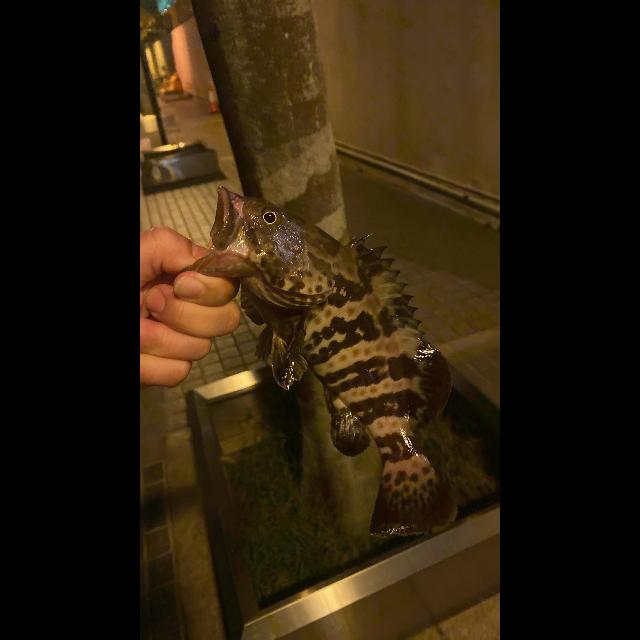Groupers: (208, 186, 456, 534)
